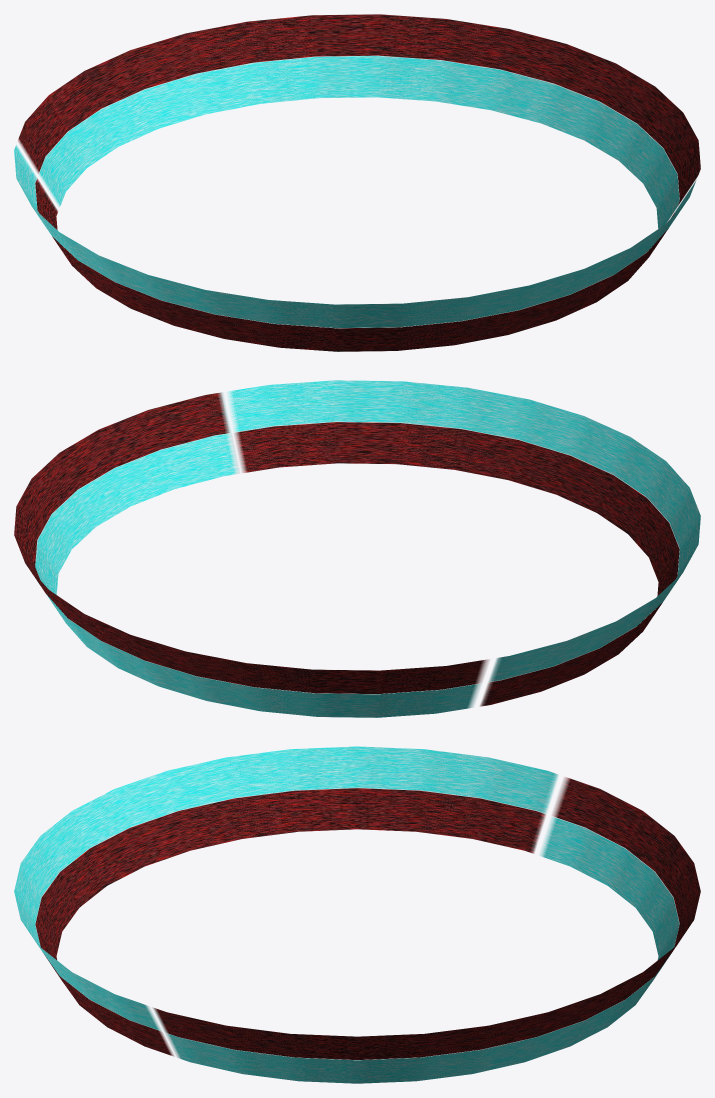
3 renders of one model, top to bottom at view 1: azimuth 30°, elevation 25°; view 2: azimuth 150°, elevation 25°; view 3: azimuth 270°, elevation 25°, orthographic.
Parts seen in each view (by area): view 1: SM_VFX_Water_Ring_LOD0; view 2: SM_VFX_Water_Ring_LOD0; view 3: SM_VFX_Water_Ring_LOD0.
Boxes of the visible parts, x1,y1,x2,y2 form: SM_VFX_Water_Ring_LOD0: [14, 14, 700, 351]; SM_VFX_Water_Ring_LOD0: [14, 380, 700, 717]; SM_VFX_Water_Ring_LOD0: [14, 746, 700, 1083].
Bounding box in the file's own units: 1.59 × 0.1673 × 1.59.
Materials: 1 (1 with a texture image).
